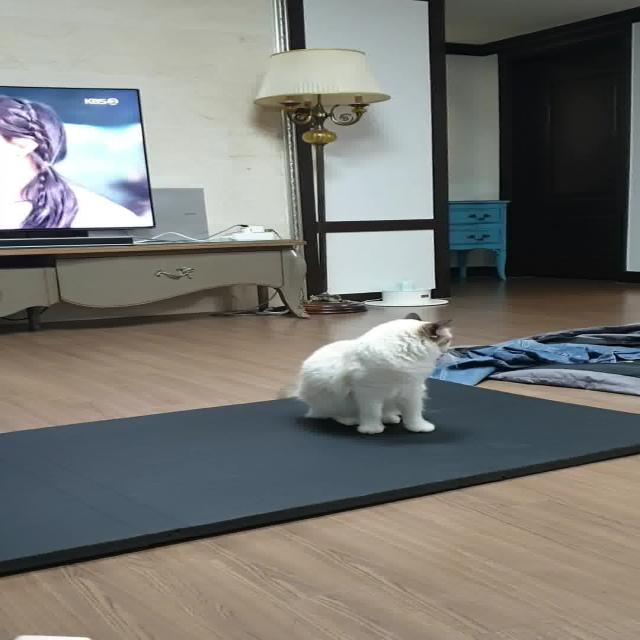cat: (277, 310, 464, 447)
